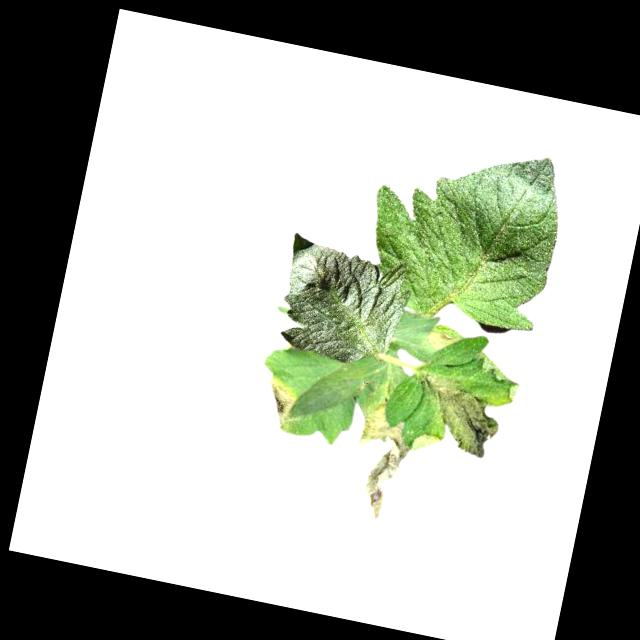Late_blight: (341, 396, 424, 528), (406, 367, 517, 462), (258, 376, 303, 435), (423, 326, 462, 356)
